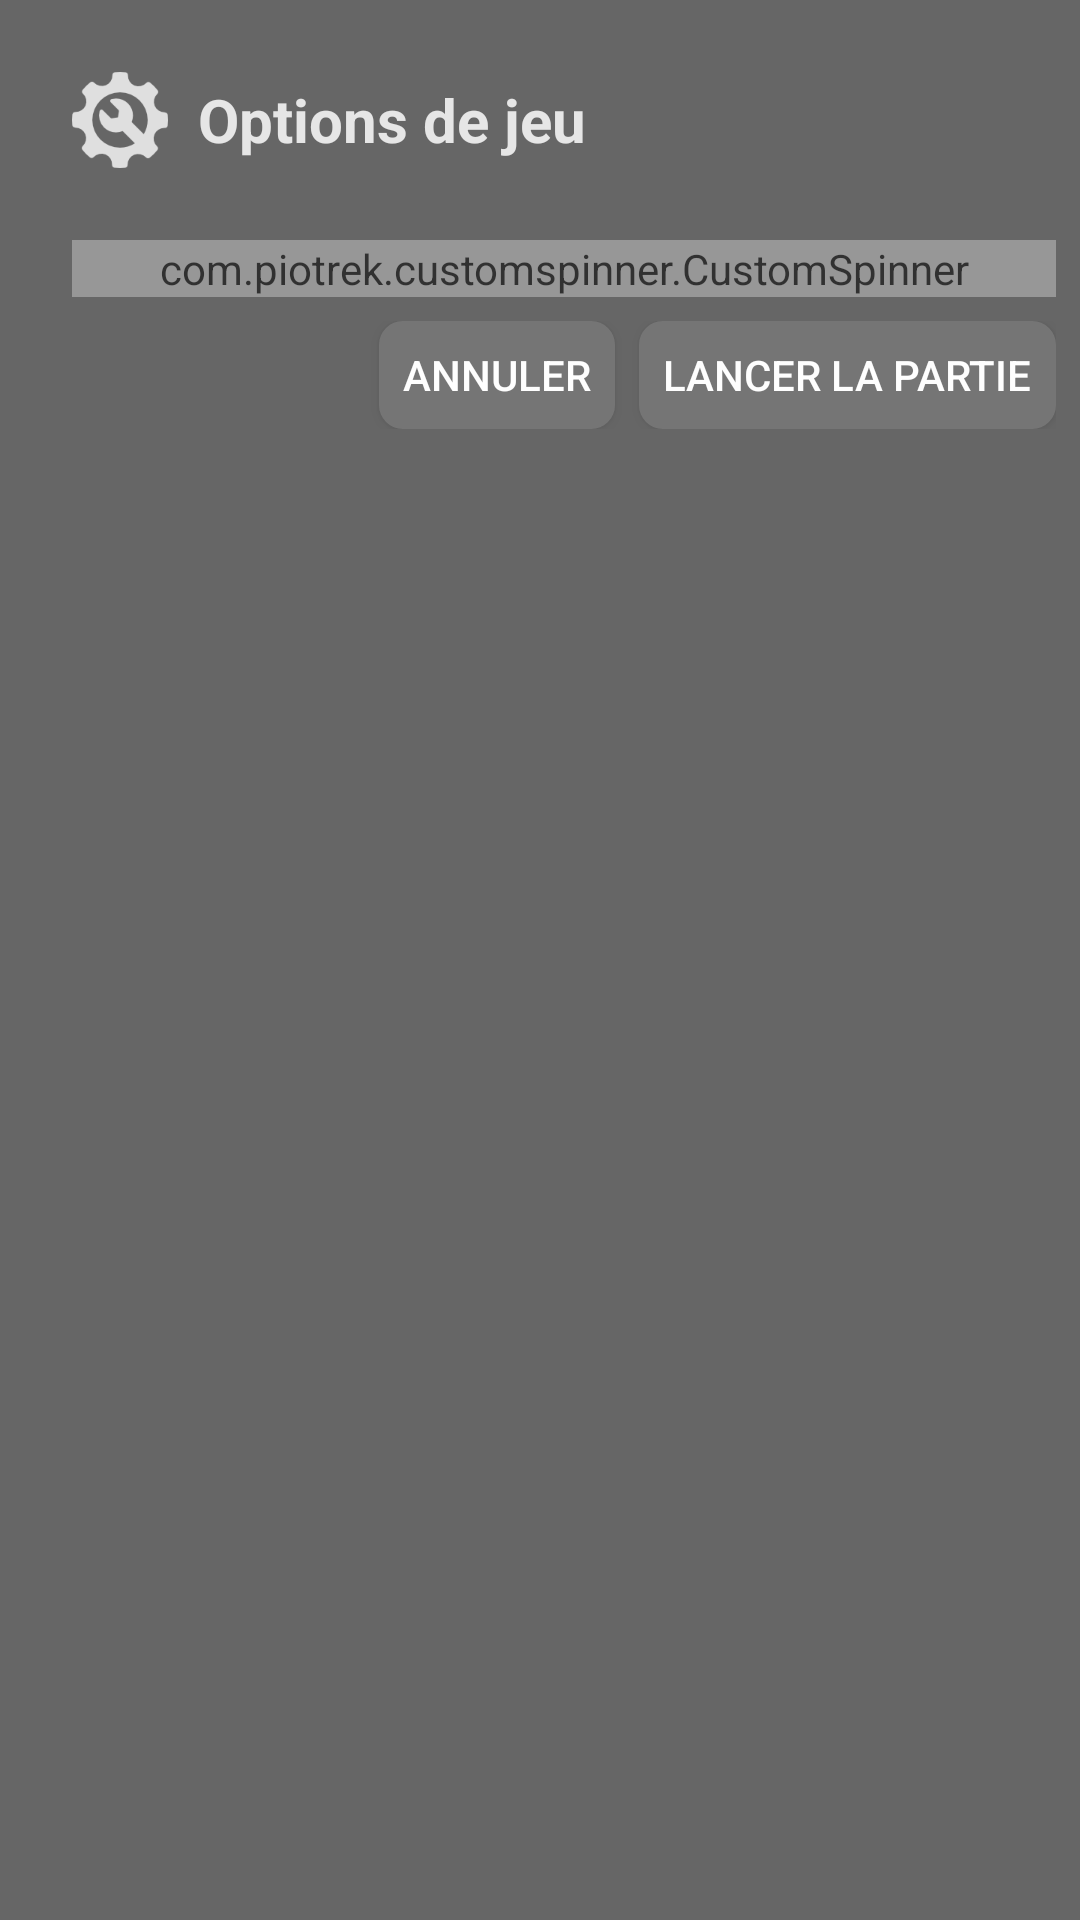

Icon click points for this 1080px×1920px phone screenshot, format [x,y]:
settings: [120,120]
